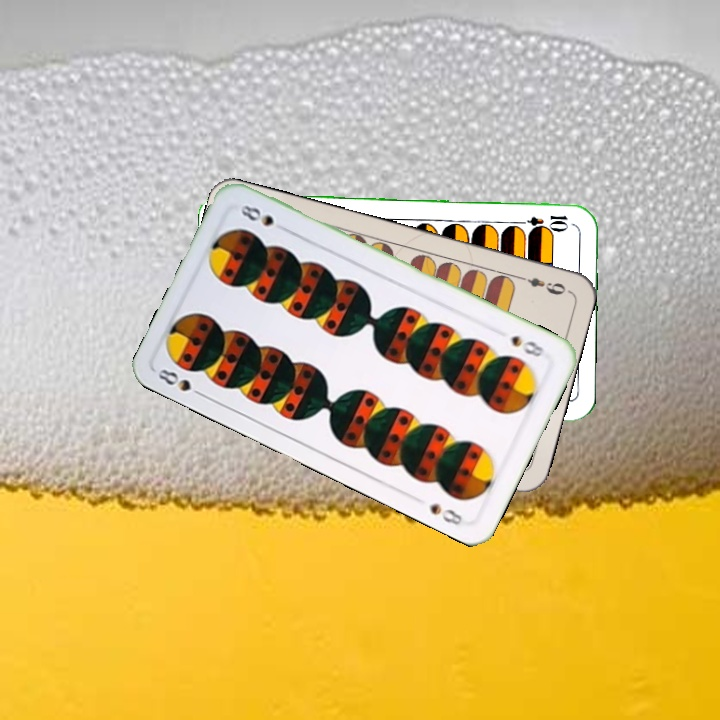E10: (513, 211, 571, 233)
E9: (513, 271, 569, 298)
S8: (154, 365, 209, 401), (507, 331, 552, 362)
